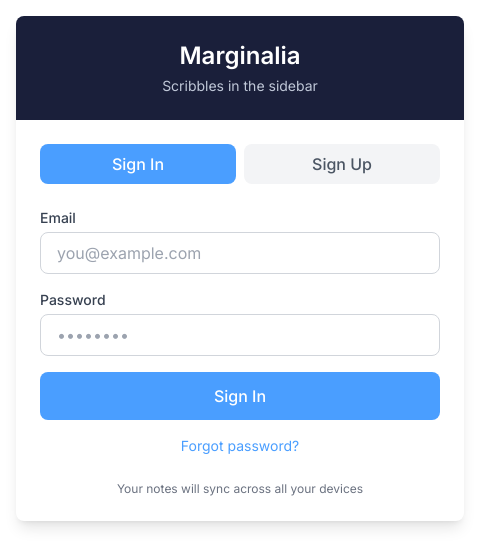
Test: Options › Unauthenticated state › should switch to password reset mode
(page scrolled)
What coordinates should you click on to do the following:
click the button with test id "forgot-password-button"
I would click on:
 (240, 446)
Its box is [40,436,440,456].
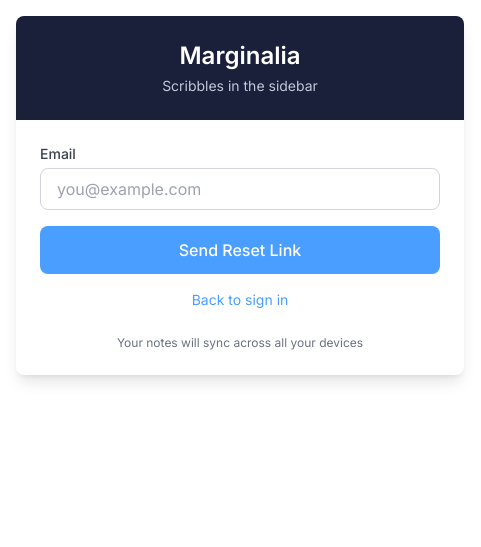
Result: the form with test id "reset-form" is shown at [40,144,440,311]
Result: the button with test id "back-to-signin-button" is shown at [40,290,440,310]
